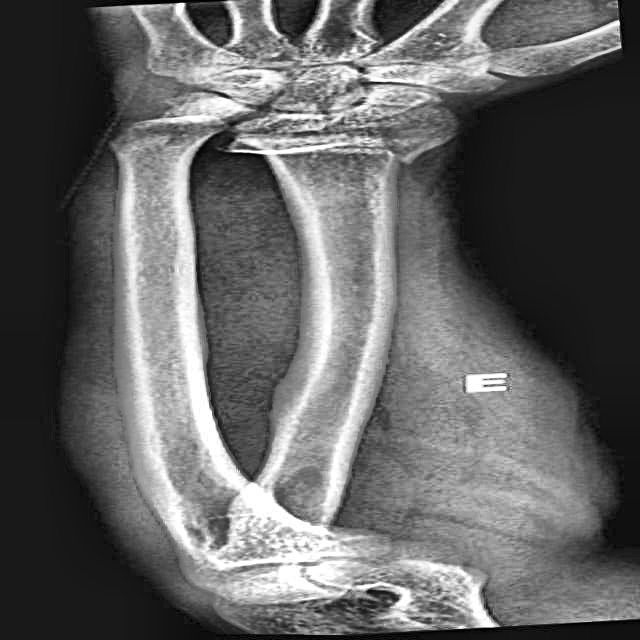Healthy: (62, 180, 452, 516)
